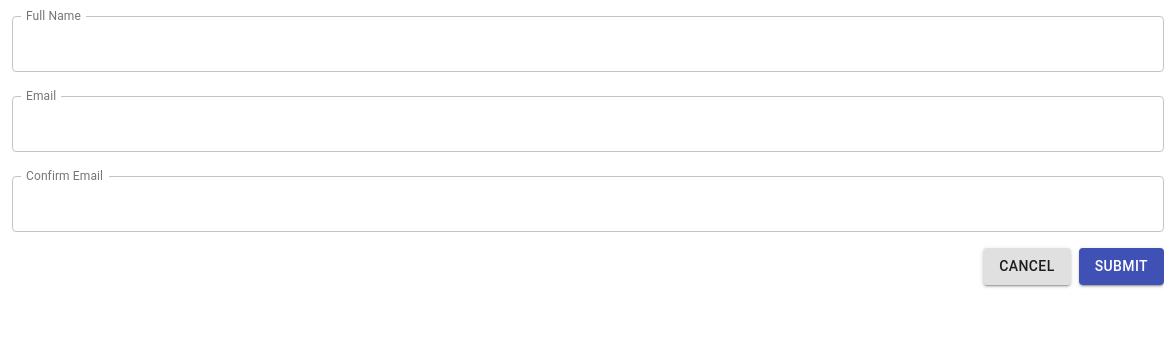
Test case: testing correct validation messages are shown and submit is not called › check error is shown when 'confirm email' does not match 'email'
Check: the text "Email must match" is not shown
Type "email@domain.com" into the field labelled "Email".
click(588, 124); type("email@domain.com")  # box [12,96,1164,152]
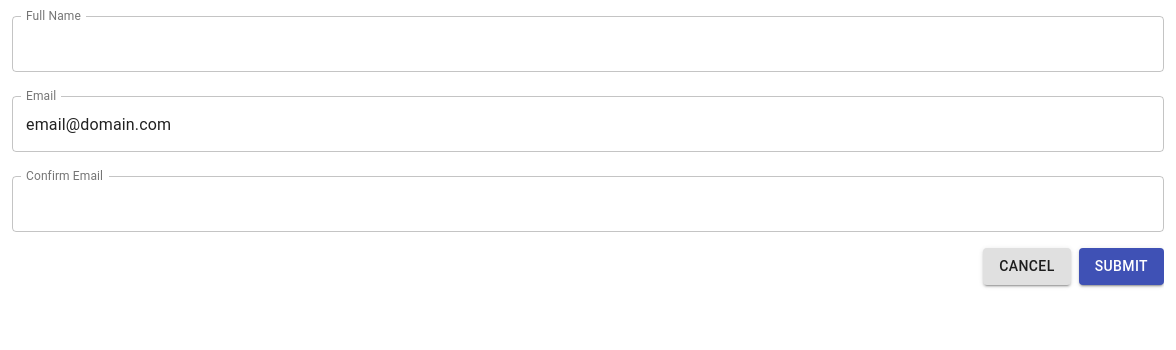
Type "different_email@domain.com" into the field labelled "Confirm Email".
click(588, 204); type("different_email@domain.com")  # box [12,176,1164,232]
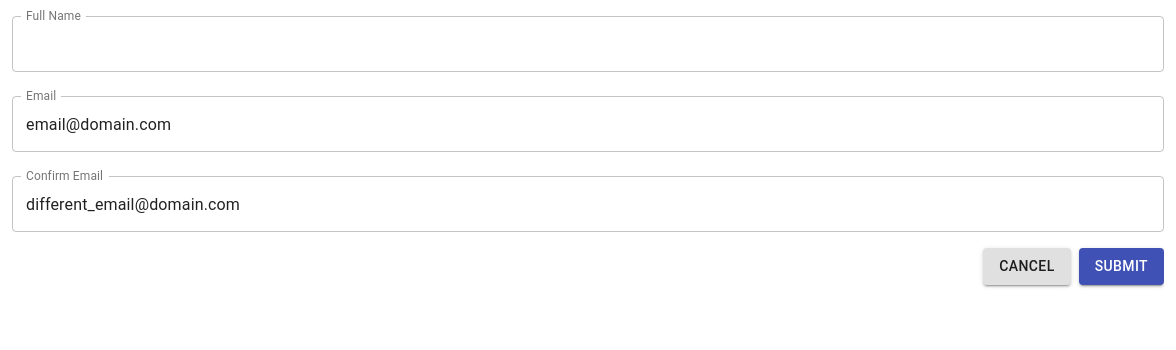
Click the button "Submit".
click(1121, 266)  # box [1079,248,1164,284]
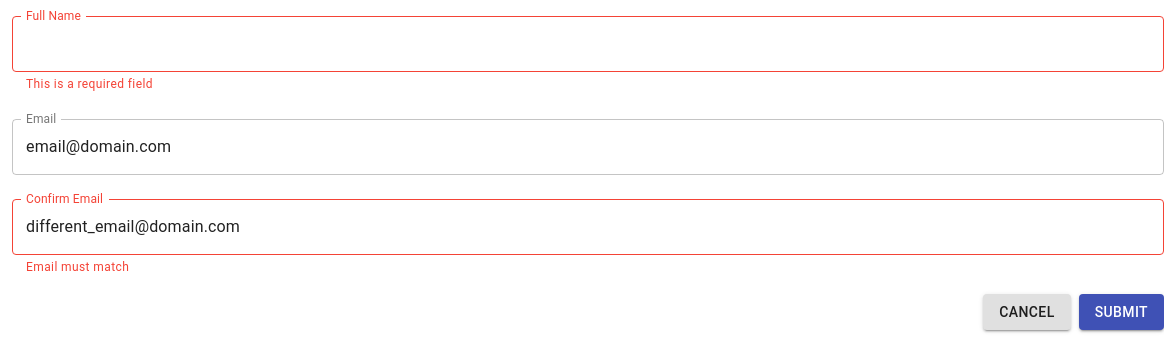
Check: the text "Email must match" is shown, box [26,260,129,274]
